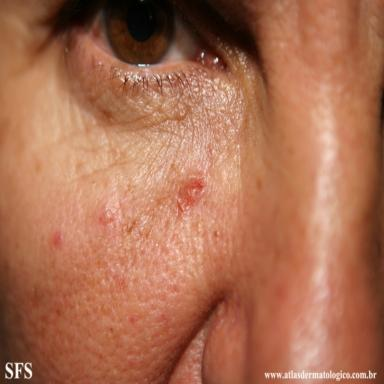basal-cell-carcinoma: (178, 174, 204, 213)
